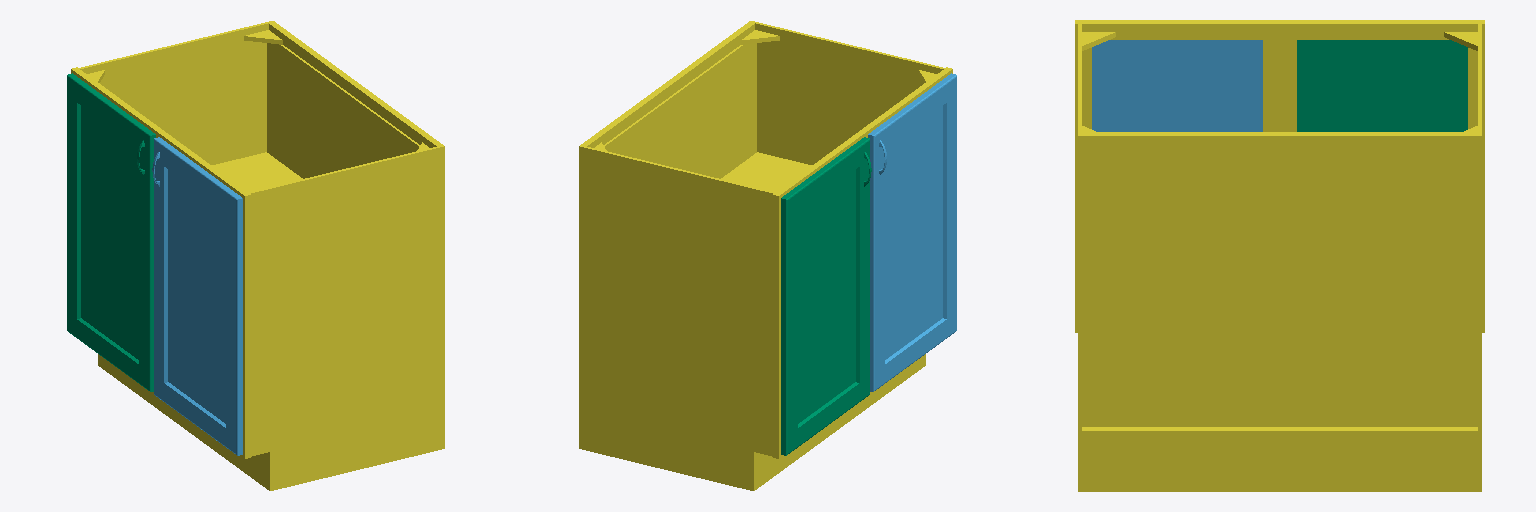
robot.urdf — partnet_21224eab2d099f5012de5317fe5b354f:
<?xml version="1.0" ?>
<robot name="partnet_21224eab2d099f5012de5317fe5b354f">
	<link name="base"/>
	<link name="link_0">
		<visual name="cabinet_door_surface-9">
			<origin xyz="-0.628948956351366 -0.146792992949486 -0.4328142558837046"/>
			<geometry>
				<mesh filename="textured_objs/original-49.obj"/>
			</geometry>
		</visual>
		<visual name="cabinet_door_surface-9">
			<origin xyz="-0.628948956351366 -0.146792992949486 -0.4328142558837046"/>
			<geometry>
				<mesh filename="textured_objs/original-43.obj"/>
			</geometry>
		</visual>
		<visual name="cabinet_door_surface-9">
			<origin xyz="-0.628948956351366 -0.146792992949486 -0.4328142558837046"/>
			<geometry>
				<mesh filename="textured_objs/original-39.obj"/>
			</geometry>
		</visual>
		<visual name="cabinet_door_surface-9">
			<origin xyz="-0.628948956351366 -0.146792992949486 -0.4328142558837046"/>
			<geometry>
				<mesh filename="textured_objs/original-45.obj"/>
			</geometry>
		</visual>
		<visual name="cabinet_door_surface-9">
			<origin xyz="-0.628948956351366 -0.146792992949486 -0.4328142558837046"/>
			<geometry>
				<mesh filename="textured_objs/original-44.obj"/>
			</geometry>
		</visual>
		<visual name="cabinet_door_surface-9">
			<origin xyz="-0.628948956351366 -0.146792992949486 -0.4328142558837046"/>
			<geometry>
				<mesh filename="textured_objs/original-42.obj"/>
			</geometry>
		</visual>
		<visual name="cabinet_door_surface-9">
			<origin xyz="-0.628948956351366 -0.146792992949486 -0.4328142558837046"/>
			<geometry>
				<mesh filename="textured_objs/original-46.obj"/>
			</geometry>
		</visual>
		<visual name="cabinet_door_surface-9">
			<origin xyz="-0.628948956351366 -0.146792992949486 -0.4328142558837046"/>
			<geometry>
				<mesh filename="textured_objs/original-40.obj"/>
			</geometry>
		</visual>
		<visual name="cabinet_door_surface-9">
			<origin xyz="-0.628948956351366 -0.146792992949486 -0.4328142558837046"/>
			<geometry>
				<mesh filename="textured_objs/original-41.obj"/>
			</geometry>
		</visual>
		<visual name="cabinet_door_surface-9">
			<origin xyz="-0.628948956351366 -0.146792992949486 -0.4328142558837046"/>
			<geometry>
				<mesh filename="textured_objs/original-48.obj"/>
			</geometry>
		</visual>
		<visual name="handle-10">
			<origin xyz="-0.628948956351366 -0.146792992949486 -0.4328142558837046"/>
			<geometry>
				<mesh filename="textured_objs/original-50.obj"/>
			</geometry>
		</visual>
		<collision>
			<origin xyz="-0.628948956351366 -0.146792992949486 -0.4328142558837046"/>
			<geometry>
				<mesh filename="textured_objs/original-49.obj"/>
			</geometry>
		</collision>
		<collision>
			<origin xyz="-0.628948956351366 -0.146792992949486 -0.4328142558837046"/>
			<geometry>
				<mesh filename="textured_objs/original-43.obj"/>
			</geometry>
		</collision>
		<collision>
			<origin xyz="-0.628948956351366 -0.146792992949486 -0.4328142558837046"/>
			<geometry>
				<mesh filename="textured_objs/original-39.obj"/>
			</geometry>
		</collision>
		<collision>
			<origin xyz="-0.628948956351366 -0.146792992949486 -0.4328142558837046"/>
			<geometry>
				<mesh filename="textured_objs/original-45.obj"/>
			</geometry>
		</collision>
		<collision>
			<origin xyz="-0.628948956351366 -0.146792992949486 -0.4328142558837046"/>
			<geometry>
				<mesh filename="textured_objs/original-44.obj"/>
			</geometry>
		</collision>
		<collision>
			<origin xyz="-0.628948956351366 -0.146792992949486 -0.4328142558837046"/>
			<geometry>
				<mesh filename="textured_objs/original-42.obj"/>
			</geometry>
		</collision>
		<collision>
			<origin xyz="-0.628948956351366 -0.146792992949486 -0.4328142558837046"/>
			<geometry>
				<mesh filename="textured_objs/original-46.obj"/>
			</geometry>
		</collision>
		<collision>
			<origin xyz="-0.628948956351366 -0.146792992949486 -0.4328142558837046"/>
			<geometry>
				<mesh filename="textured_objs/original-40.obj"/>
			</geometry>
		</collision>
		<collision>
			<origin xyz="-0.628948956351366 -0.146792992949486 -0.4328142558837046"/>
			<geometry>
				<mesh filename="textured_objs/original-41.obj"/>
			</geometry>
		</collision>
		<collision>
			<origin xyz="-0.628948956351366 -0.146792992949486 -0.4328142558837046"/>
			<geometry>
				<mesh filename="textured_objs/original-48.obj"/>
			</geometry>
		</collision>
		<collision>
			<origin xyz="-0.628948956351366 -0.146792992949486 -0.4328142558837046"/>
			<geometry>
				<mesh filename="textured_objs/original-50.obj"/>
			</geometry>
		</collision>
	</link>
	<joint name="joint_0" type="revolute">
		<origin xyz="0.628948956351366 0.146792992949486 0.4328142558837046"/>
		<axis xyz="0 1 0"/>
		<child link="link_0"/>
		<parent link="link_2"/>
		<limit lower="0.0" upper="1.7090264035528475"/>
	</joint>
	<link name="link_1">
		<visual name="cabinet_door_surface-7">
			<origin xyz="0.6263967794410616 0.3824549913406372 -0.4347051843695625"/>
			<geometry>
				<mesh filename="textured_objs/original-35.obj"/>
			</geometry>
		</visual>
		<visual name="cabinet_door_surface-7">
			<origin xyz="0.6263967794410616 0.3824549913406372 -0.4347051843695625"/>
			<geometry>
				<mesh filename="textured_objs/original-36.obj"/>
			</geometry>
		</visual>
		<visual name="cabinet_door_surface-7">
			<origin xyz="0.6263967794410616 0.3824549913406372 -0.4347051843695625"/>
			<geometry>
				<mesh filename="textured_objs/original-30.obj"/>
			</geometry>
		</visual>
		<visual name="cabinet_door_surface-7">
			<origin xyz="0.6263967794410616 0.3824549913406372 -0.4347051843695625"/>
			<geometry>
				<mesh filename="textured_objs/original-26.obj"/>
			</geometry>
		</visual>
		<visual name="cabinet_door_surface-7">
			<origin xyz="0.6263967794410616 0.3824549913406372 -0.4347051843695625"/>
			<geometry>
				<mesh filename="textured_objs/original-32.obj"/>
			</geometry>
		</visual>
		<visual name="cabinet_door_surface-7">
			<origin xyz="0.6263967794410616 0.3824549913406372 -0.4347051843695625"/>
			<geometry>
				<mesh filename="textured_objs/original-31.obj"/>
			</geometry>
		</visual>
		<visual name="cabinet_door_surface-7">
			<origin xyz="0.6263967794410616 0.3824549913406372 -0.4347051843695625"/>
			<geometry>
				<mesh filename="textured_objs/original-29.obj"/>
			</geometry>
		</visual>
		<visual name="cabinet_door_surface-7">
			<origin xyz="0.6263967794410616 0.3824549913406372 -0.4347051843695625"/>
			<geometry>
				<mesh filename="textured_objs/original-33.obj"/>
			</geometry>
		</visual>
		<visual name="cabinet_door_surface-7">
			<origin xyz="0.6263967794410616 0.3824549913406372 -0.4347051843695625"/>
			<geometry>
				<mesh filename="textured_objs/original-27.obj"/>
			</geometry>
		</visual>
		<visual name="cabinet_door_surface-7">
			<origin xyz="0.6263967794410616 0.3824549913406372 -0.4347051843695625"/>
			<geometry>
				<mesh filename="textured_objs/original-28.obj"/>
			</geometry>
		</visual>
		<visual name="handle-8">
			<origin xyz="0.6263967794410616 0.3824549913406372 -0.4347051843695625"/>
			<geometry>
				<mesh filename="textured_objs/original-37.obj"/>
			</geometry>
		</visual>
		<collision>
			<origin xyz="0.6263967794410616 0.3824549913406372 -0.4347051843695625"/>
			<geometry>
				<mesh filename="textured_objs/original-35.obj"/>
			</geometry>
		</collision>
		<collision>
			<origin xyz="0.6263967794410616 0.3824549913406372 -0.4347051843695625"/>
			<geometry>
				<mesh filename="textured_objs/original-36.obj"/>
			</geometry>
		</collision>
		<collision>
			<origin xyz="0.6263967794410616 0.3824549913406372 -0.4347051843695625"/>
			<geometry>
				<mesh filename="textured_objs/original-30.obj"/>
			</geometry>
		</collision>
		<collision>
			<origin xyz="0.6263967794410616 0.3824549913406372 -0.4347051843695625"/>
			<geometry>
				<mesh filename="textured_objs/original-26.obj"/>
			</geometry>
		</collision>
		<collision>
			<origin xyz="0.6263967794410616 0.3824549913406372 -0.4347051843695625"/>
			<geometry>
				<mesh filename="textured_objs/original-32.obj"/>
			</geometry>
		</collision>
		<collision>
			<origin xyz="0.6263967794410616 0.3824549913406372 -0.4347051843695625"/>
			<geometry>
				<mesh filename="textured_objs/original-31.obj"/>
			</geometry>
		</collision>
		<collision>
			<origin xyz="0.6263967794410616 0.3824549913406372 -0.4347051843695625"/>
			<geometry>
				<mesh filename="textured_objs/original-29.obj"/>
			</geometry>
		</collision>
		<collision>
			<origin xyz="0.6263967794410616 0.3824549913406372 -0.4347051843695625"/>
			<geometry>
				<mesh filename="textured_objs/original-33.obj"/>
			</geometry>
		</collision>
		<collision>
			<origin xyz="0.6263967794410616 0.3824549913406372 -0.4347051843695625"/>
			<geometry>
				<mesh filename="textured_objs/original-27.obj"/>
			</geometry>
		</collision>
		<collision>
			<origin xyz="0.6263967794410616 0.3824549913406372 -0.4347051843695625"/>
			<geometry>
				<mesh filename="textured_objs/original-28.obj"/>
			</geometry>
		</collision>
		<collision>
			<origin xyz="0.6263967794410616 0.3824549913406372 -0.4347051843695625"/>
			<geometry>
				<mesh filename="textured_objs/original-37.obj"/>
			</geometry>
		</collision>
	</link>
	<joint name="joint_1" type="revolute">
		<origin xyz="-0.6263967794410616 -0.3824549913406372 0.4347051843695625"/>
		<axis xyz="0 -1 0"/>
		<child link="link_1"/>
		<parent link="link_2"/>
		<limit lower="0.0" upper="1.7090264035528475"/>
	</joint>
	<link name="link_2">
		<visual name="shelf-4">
			<origin xyz="0 0 0"/>
			<geometry>
				<mesh filename="textured_objs/original-13.obj"/>
			</geometry>
		</visual>
		<visual name="frame_horizontal_bar-22">
			<origin xyz="0 0 0"/>
			<geometry>
				<mesh filename="textured_objs/original-5.obj"/>
			</geometry>
		</visual>
		<visual name="frame_horizontal_bar-23">
			<origin xyz="0 0 0"/>
			<geometry>
				<mesh filename="textured_objs/original-3.obj"/>
			</geometry>
		</visual>
		<visual name="other_leaf-31">
			<origin xyz="0 0 0"/>
			<geometry>
				<mesh filename="textured_objs/original-14.obj"/>
			</geometry>
		</visual>
		<visual name="other_leaf-30">
			<origin xyz="0 0 0"/>
			<geometry>
				<mesh filename="textured_objs/original-24.obj"/>
			</geometry>
		</visual>
		<visual name="other_leaf-29">
			<origin xyz="0 0 0"/>
			<geometry>
				<mesh filename="textured_objs/original-18.obj"/>
			</geometry>
		</visual>
		<visual name="other_leaf-28">
			<origin xyz="0 0 0"/>
			<geometry>
				<mesh filename="textured_objs/original-15.obj"/>
			</geometry>
		</visual>
		<visual name="vertical_side_panel-32">
			<origin xyz="0 0 0"/>
			<geometry>
				<mesh filename="textured_objs/original-22.obj"/>
			</geometry>
		</visual>
		<visual name="vertical_side_panel-32">
			<origin xyz="0 0 0"/>
			<geometry>
				<mesh filename="textured_objs/original-21.obj"/>
			</geometry>
		</visual>
		<visual name="vertical_side_panel-33">
			<origin xyz="0 0 0"/>
			<geometry>
				<mesh filename="textured_objs/original-9.obj"/>
			</geometry>
		</visual>
		<visual name="vertical_side_panel-33">
			<origin xyz="0 0 0"/>
			<geometry>
				<mesh filename="textured_objs/original-8.obj"/>
			</geometry>
		</visual>
		<visual name="back_panel-34">
			<origin xyz="0 0 0"/>
			<geometry>
				<mesh filename="textured_objs/original-17.obj"/>
			</geometry>
		</visual>
		<visual name="back_panel-34">
			<origin xyz="0 0 0"/>
			<geometry>
				<mesh filename="textured_objs/original-16.obj"/>
			</geometry>
		</visual>
		<visual name="bottom_panel-35">
			<origin xyz="0 0 0"/>
			<geometry>
				<mesh filename="textured_objs/original-12.obj"/>
			</geometry>
		</visual>
		<visual name="frame_vertical_bar-36">
			<origin xyz="0 0 0"/>
			<geometry>
				<mesh filename="textured_objs/original-2.obj"/>
			</geometry>
		</visual>
		<visual name="frame_vertical_bar-37">
			<origin xyz="0 0 0"/>
			<geometry>
				<mesh filename="textured_objs/original-6.obj"/>
			</geometry>
		</visual>
		<visual name="frame_vertical_bar-38">
			<origin xyz="0 0 0"/>
			<geometry>
				<mesh filename="textured_objs/original-4.obj"/>
			</geometry>
		</visual>
		<visual name="other_leaf-40">
			<origin xyz="0 0 0"/>
			<geometry>
				<mesh filename="textured_objs/original-51.obj"/>
			</geometry>
		</visual>
		<visual name="base_side_panel-12">
			<origin xyz="0 0 0"/>
			<geometry>
				<mesh filename="textured_objs/original-23.obj"/>
			</geometry>
		</visual>
		<visual name="base_side_panel-13">
			<origin xyz="0 0 0"/>
			<geometry>
				<mesh filename="textured_objs/original-19.obj"/>
			</geometry>
		</visual>
		<visual name="base_side_panel-14">
			<origin xyz="0 0 0"/>
			<geometry>
				<mesh filename="textured_objs/original-10.obj"/>
			</geometry>
		</visual>
		<visual name="base_side_panel-15">
			<origin xyz="0 0 0"/>
			<geometry>
				<mesh filename="textured_objs/original-11.obj"/>
			</geometry>
		</visual>
		<collision>
			<origin xyz="0 0 0"/>
			<geometry>
				<mesh filename="textured_objs/original-13.obj"/>
			</geometry>
		</collision>
		<collision>
			<origin xyz="0 0 0"/>
			<geometry>
				<mesh filename="textured_objs/original-5.obj"/>
			</geometry>
		</collision>
		<collision>
			<origin xyz="0 0 0"/>
			<geometry>
				<mesh filename="textured_objs/original-3.obj"/>
			</geometry>
		</collision>
		<collision>
			<origin xyz="0 0 0"/>
			<geometry>
				<mesh filename="textured_objs/original-14.obj"/>
			</geometry>
		</collision>
		<collision>
			<origin xyz="0 0 0"/>
			<geometry>
				<mesh filename="textured_objs/original-24.obj"/>
			</geometry>
		</collision>
		<collision>
			<origin xyz="0 0 0"/>
			<geometry>
				<mesh filename="textured_objs/original-18.obj"/>
			</geometry>
		</collision>
		<collision>
			<origin xyz="0 0 0"/>
			<geometry>
				<mesh filename="textured_objs/original-15.obj"/>
			</geometry>
		</collision>
		<collision>
			<origin xyz="0 0 0"/>
			<geometry>
				<mesh filename="textured_objs/original-22.obj"/>
			</geometry>
		</collision>
		<collision>
			<origin xyz="0 0 0"/>
			<geometry>
				<mesh filename="textured_objs/original-21.obj"/>
			</geometry>
		</collision>
		<collision>
			<origin xyz="0 0 0"/>
			<geometry>
				<mesh filename="textured_objs/original-9.obj"/>
			</geometry>
		</collision>
		<collision>
			<origin xyz="0 0 0"/>
			<geometry>
				<mesh filename="textured_objs/original-8.obj"/>
			</geometry>
		</collision>
		<collision>
			<origin xyz="0 0 0"/>
			<geometry>
				<mesh filename="textured_objs/original-17.obj"/>
			</geometry>
		</collision>
		<collision>
			<origin xyz="0 0 0"/>
			<geometry>
				<mesh filename="textured_objs/original-16.obj"/>
			</geometry>
		</collision>
		<collision>
			<origin xyz="0 0 0"/>
			<geometry>
				<mesh filename="textured_objs/original-12.obj"/>
			</geometry>
		</collision>
		<collision>
			<origin xyz="0 0 0"/>
			<geometry>
				<mesh filename="textured_objs/original-2.obj"/>
			</geometry>
		</collision>
		<collision>
			<origin xyz="0 0 0"/>
			<geometry>
				<mesh filename="textured_objs/original-6.obj"/>
			</geometry>
		</collision>
		<collision>
			<origin xyz="0 0 0"/>
			<geometry>
				<mesh filename="textured_objs/original-4.obj"/>
			</geometry>
		</collision>
		<collision>
			<origin xyz="0 0 0"/>
			<geometry>
				<mesh filename="textured_objs/original-51.obj"/>
			</geometry>
		</collision>
		<collision>
			<origin xyz="0 0 0"/>
			<geometry>
				<mesh filename="textured_objs/original-23.obj"/>
			</geometry>
		</collision>
		<collision>
			<origin xyz="0 0 0"/>
			<geometry>
				<mesh filename="textured_objs/original-19.obj"/>
			</geometry>
		</collision>
		<collision>
			<origin xyz="0 0 0"/>
			<geometry>
				<mesh filename="textured_objs/original-10.obj"/>
			</geometry>
		</collision>
		<collision>
			<origin xyz="0 0 0"/>
			<geometry>
				<mesh filename="textured_objs/original-11.obj"/>
			</geometry>
		</collision>
	</link>
	<joint name="joint_2" type="fixed">
		<origin rpy="1.570796326794897 0 -1.570796326794897" xyz="0 0 0"/>
		<child link="link_2"/>
		<parent link="base"/>
	</joint>
</robot>

--- What the picture shows (computed from the rendered views, not written in the file) ---
The picture shows the robot from 3 angles, left to right: view 1: azimuth 30°, elevation 25°; view 2: azimuth 150°, elevation 25°; view 3: azimuth 270°, elevation 25°; orthographic projection.
Model partnet_21224eab2d099f5012de5317fe5b354f with 4 links and 3 joints (2 revolute, 1 fixed), rooted at base, posed all joints at 0.
Visible links, largest first — view 1: link_2, link_0, link_1; view 2: link_2, link_1, link_0; view 3: link_2, link_0, link_1.
Link boxes in pixels (box(x1,y1,x2,y2)): link_2: box(71, 21, 444, 490); link_0: box(152, 137, 242, 455); link_1: box(67, 73, 155, 391); link_2: box(579, 21, 952, 490); link_1: box(781, 137, 871, 455); link_0: box(868, 73, 956, 391); link_2: box(1075, 20, 1484, 491); link_0: box(1092, 40, 1262, 131); link_1: box(1297, 40, 1467, 131).
Bounding box of the posed robot: 0.9226 × 1.3 × 1.25 m (x, y, z).
Meshes: 44 distinct files referenced, 44 mesh visuals loaded (44 OBJ).
